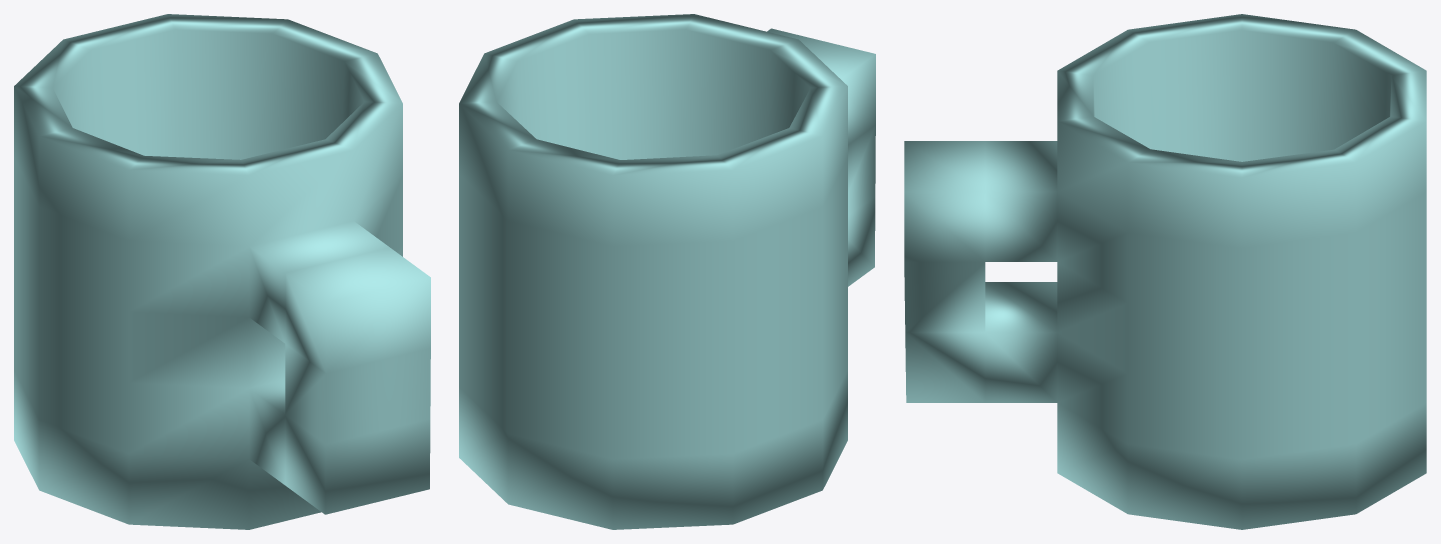
The model's file is Pint.fbx.
3 views of the same model, side by side, from view 1: azimuth 30°, elevation 25°; view 2: azimuth 150°, elevation 25°; view 3: azimuth 270°, elevation 25° (orthographic).
Parts seen in each view (by area): view 1: pCylinder1; view 2: pCylinder1; view 3: pCylinder1.
Part boxes in pixels (bbox=[...]): pCylinder1: bbox=[14, 14, 430, 529]; pCylinder1: bbox=[459, 14, 875, 529]; pCylinder1: bbox=[904, 14, 1426, 529].
Bounding box in the file's own units: 2 × 2 × 2.69.
